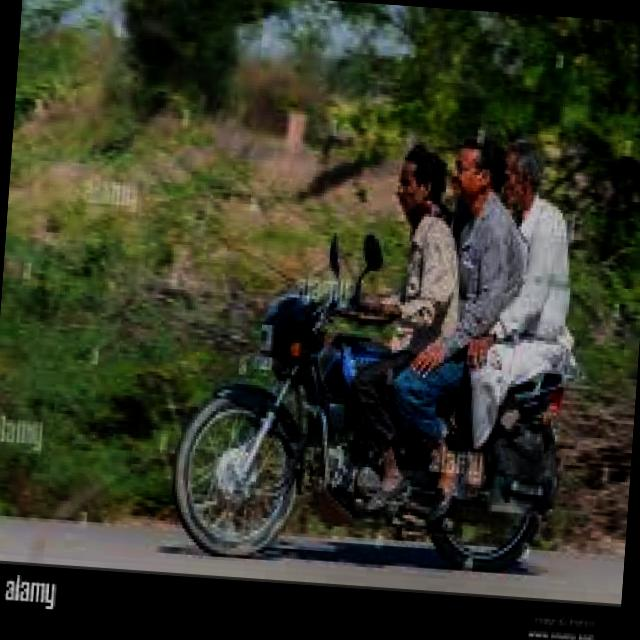motorcycle: (163, 271, 580, 587)
person: (372, 134, 487, 387), (478, 133, 584, 370), (434, 131, 538, 370)
rider_region: (177, 112, 585, 585)
